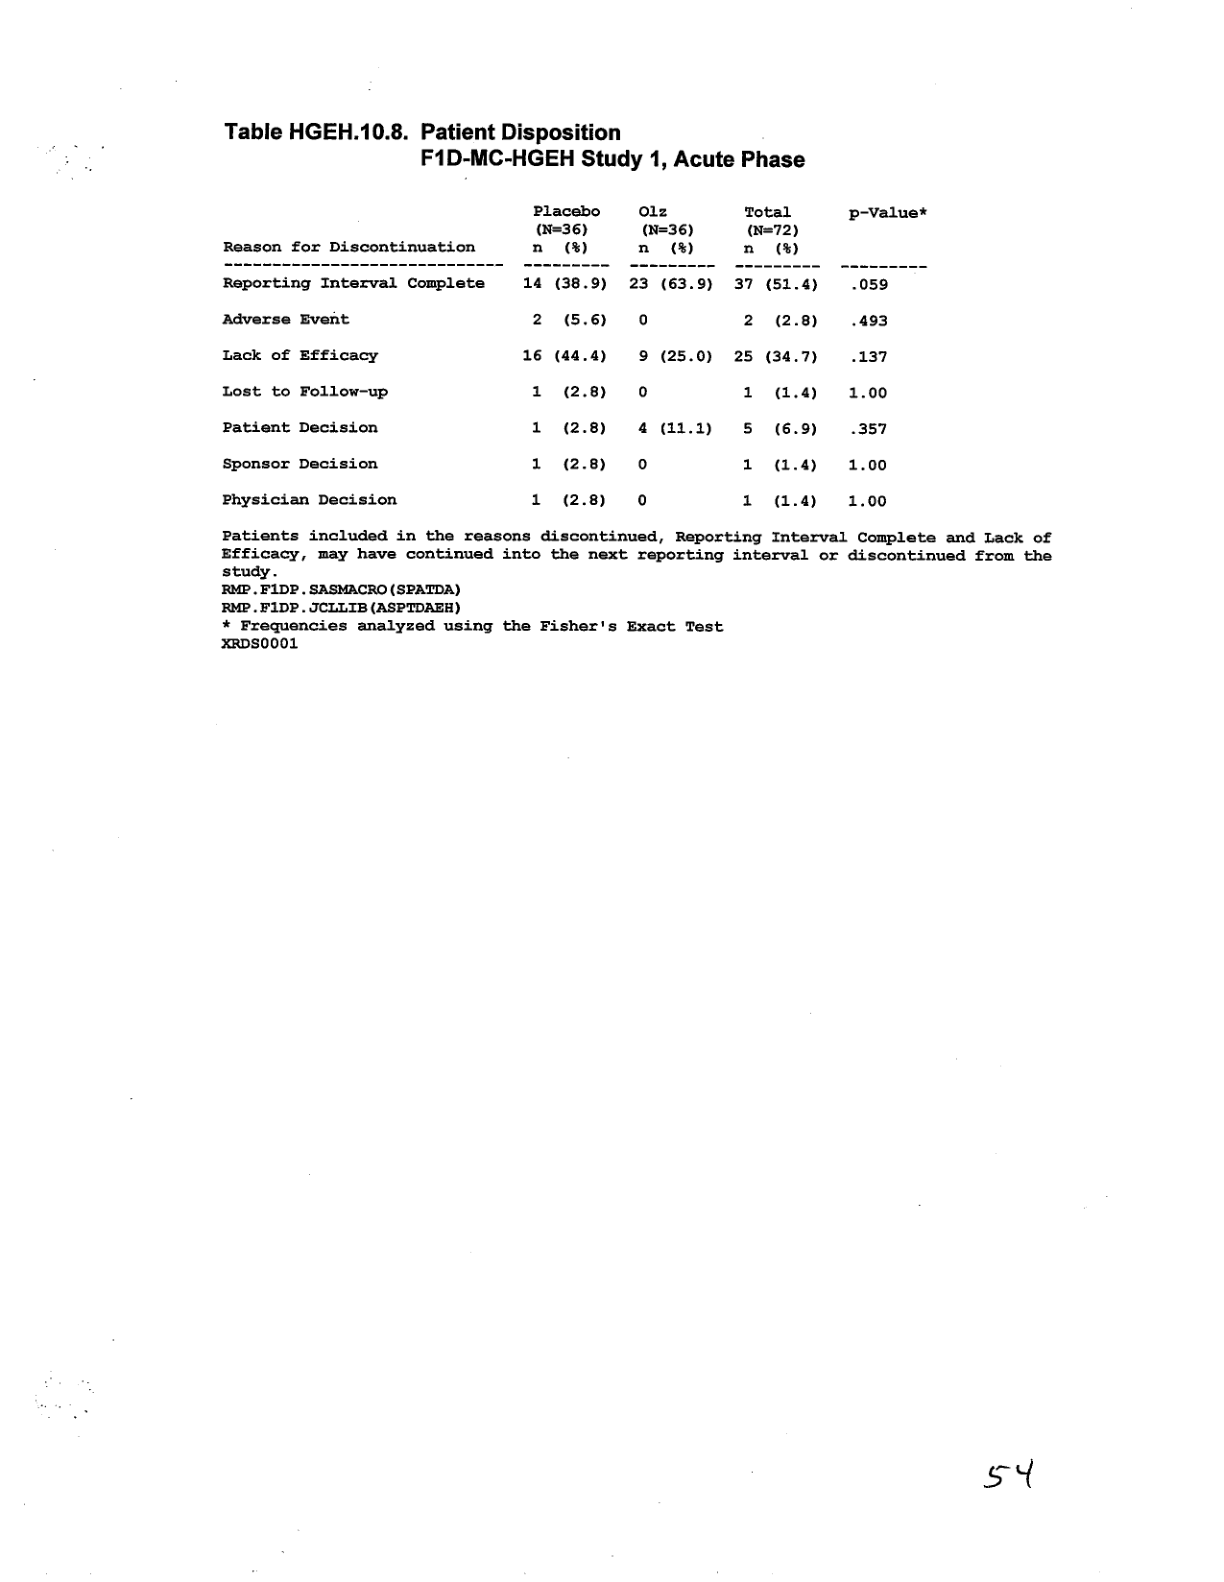nolines: (220, 200, 929, 510)
